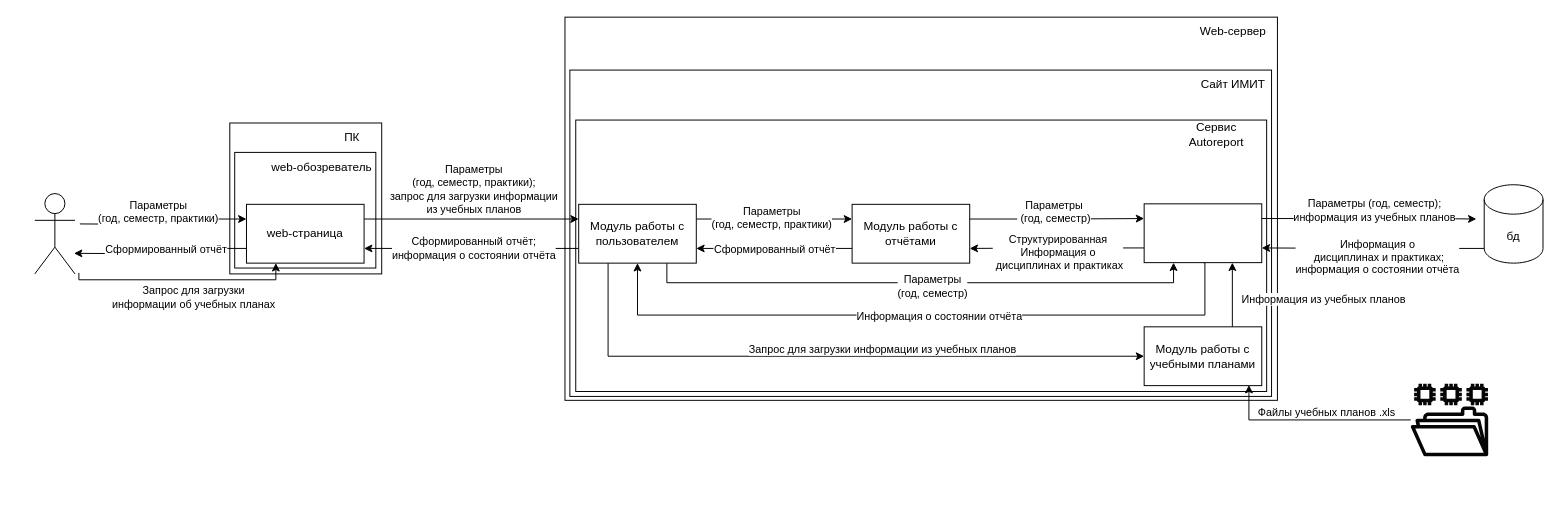
Some shapes in this 1560 by 509 pixel diagram are drawn without their labels. The shapes that lost their labels are listed below. From the top down, each one's box as (x1, y1, x2, y2) in pixels, then its label:
(34, 193, 75, 274): Пользователь
(1143, 203, 1262, 263): Модуль работы с отчётной информацией
(1410, 383, 1488, 456): Файловая система ИМИТ
